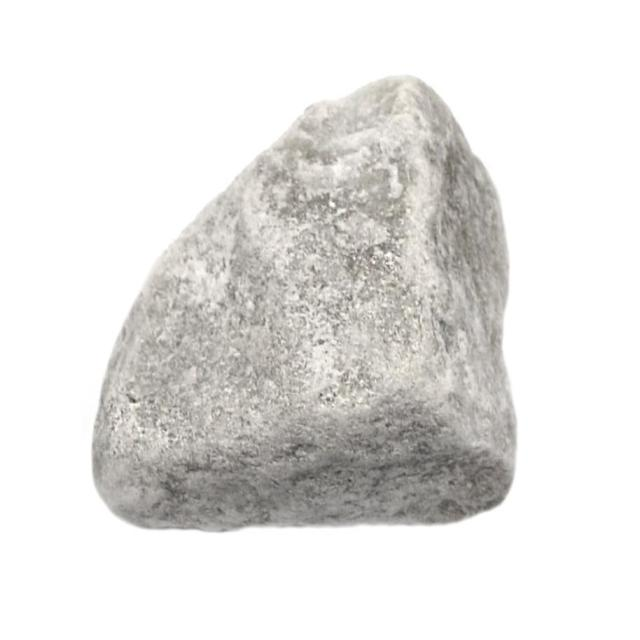Metamorphic: (84, 73, 529, 537)
